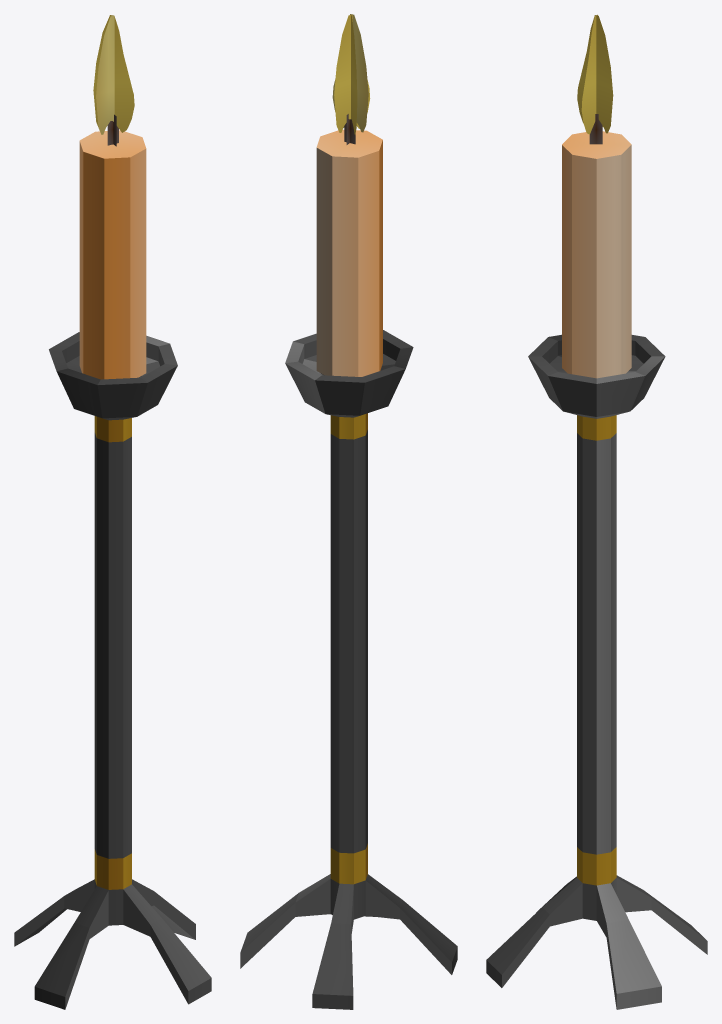
File: candle_338x14.obj
3 views of the same model, side by side, from view 1: azimuth 30°, elevation 25°; view 2: azimuth 150°, elevation 25°; view 3: azimuth 270°, elevation 25° (orthographic).
Visible parts, largest first — view 1: candle_338x14; view 2: candle_338x14; view 3: candle_338x14.
Boxes of the visible parts, bbox=[...] form: candle_338x14: bbox=[14, 15, 211, 1009]; candle_338x14: bbox=[240, 14, 457, 1009]; candle_338x14: bbox=[486, 14, 707, 1009].
Bounding box in the file's own units: 0.4538 × 2.26 × 0.4768.
